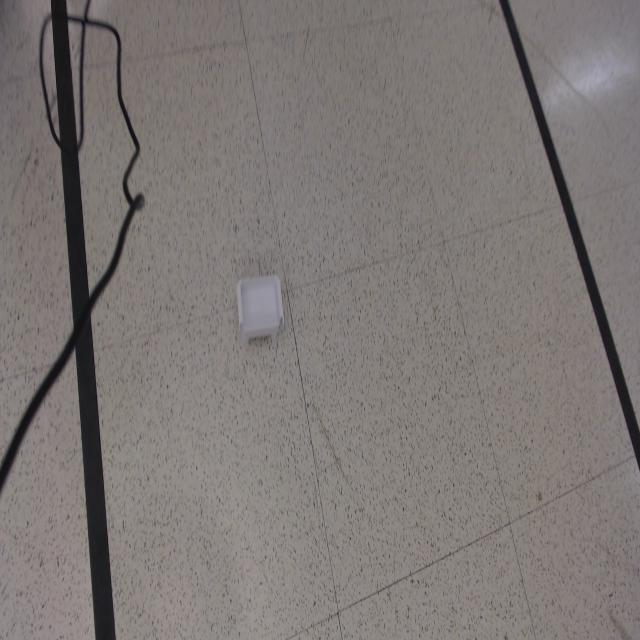wbox: (235, 272, 285, 348)
